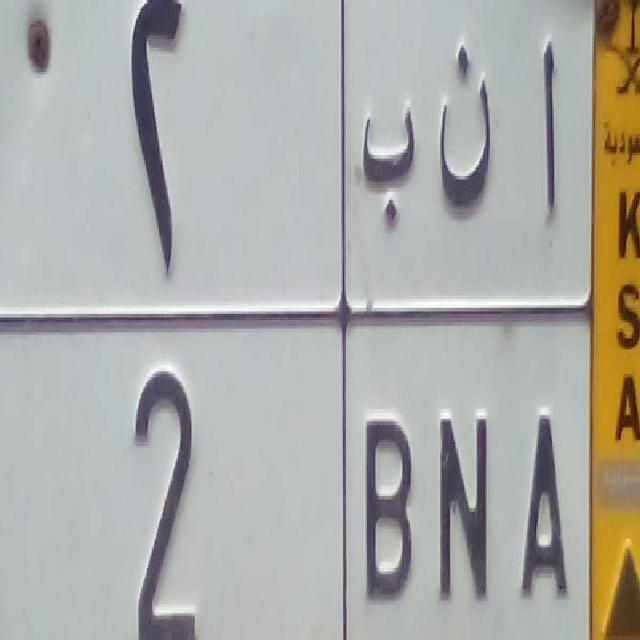license_plate: (0, 309, 594, 640)
